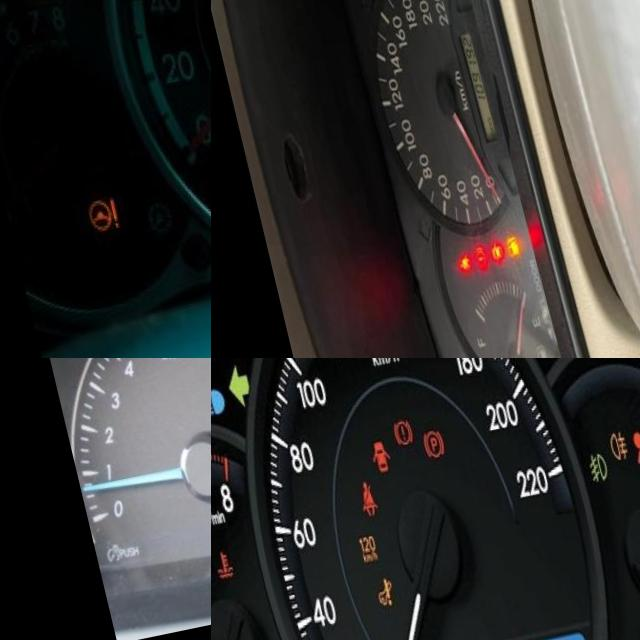High Engine Coolant Temperature: (211, 556, 220, 584)
Seat Belt: (346, 492, 366, 529), (431, 264, 449, 283)
